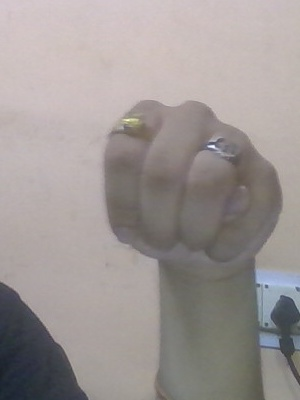M: (98, 89, 292, 299)
